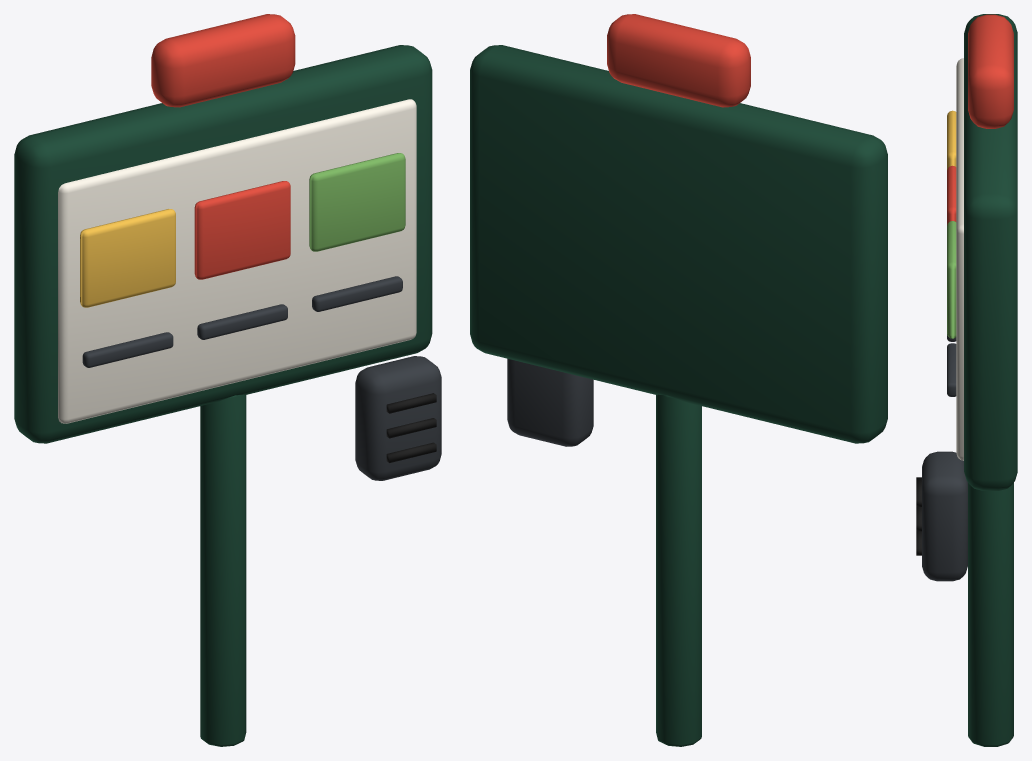
File: prop_menu_board.glb
3 renders of one model, left to right at view 1: azimuth 30°, elevation 25°; view 2: azimuth 150°, elevation 25°; view 3: azimuth 270°, elevation 25°, orthographic.
Visible parts, largest first — view 1: menu_board; view 2: menu_board; view 3: menu_board.
Boxes of the visible parts, x1,y1,x2,y2 form: menu_board: [14, 14, 441, 746]; menu_board: [470, 14, 887, 746]; menu_board: [916, 14, 1017, 746].
Size of the model in its own units: 1.2 by 2.01 by 0.265.
Materials: 4 (4 with a texture image).
